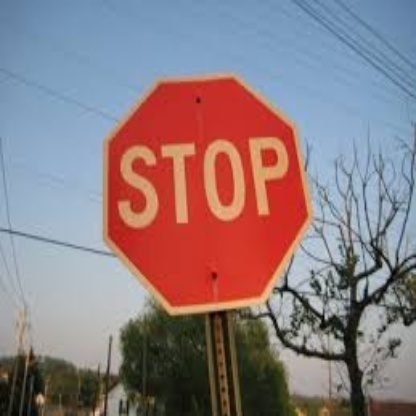stop: (102, 79, 311, 310)
